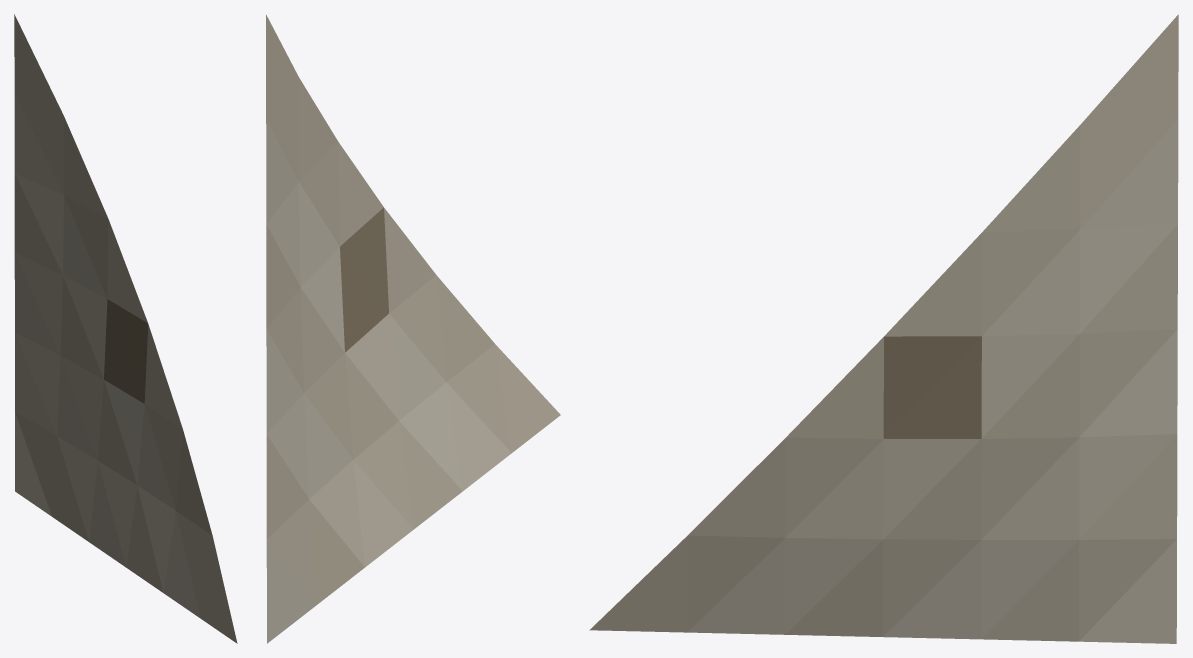
The model's file is boat-sail.glb.
3 views of the same model, side by side, from view 1: azimuth 30°, elevation 25°; view 2: azimuth 150°, elevation 25°; view 3: azimuth 270°, elevation 25° (orthographic). The views are drawn at different scales.
Parts seen in each view (by area): view 1: boat-sail; view 2: boat-sail; view 3: boat-sail.
Boxes of the visible parts, x1,y1,x2,y2 form: boat-sail: [14, 14, 237, 643]; boat-sail: [266, 14, 560, 643]; boat-sail: [589, 14, 1178, 643].
Size of the model in its own units: 0.18 by 3.68 by 3.12.
